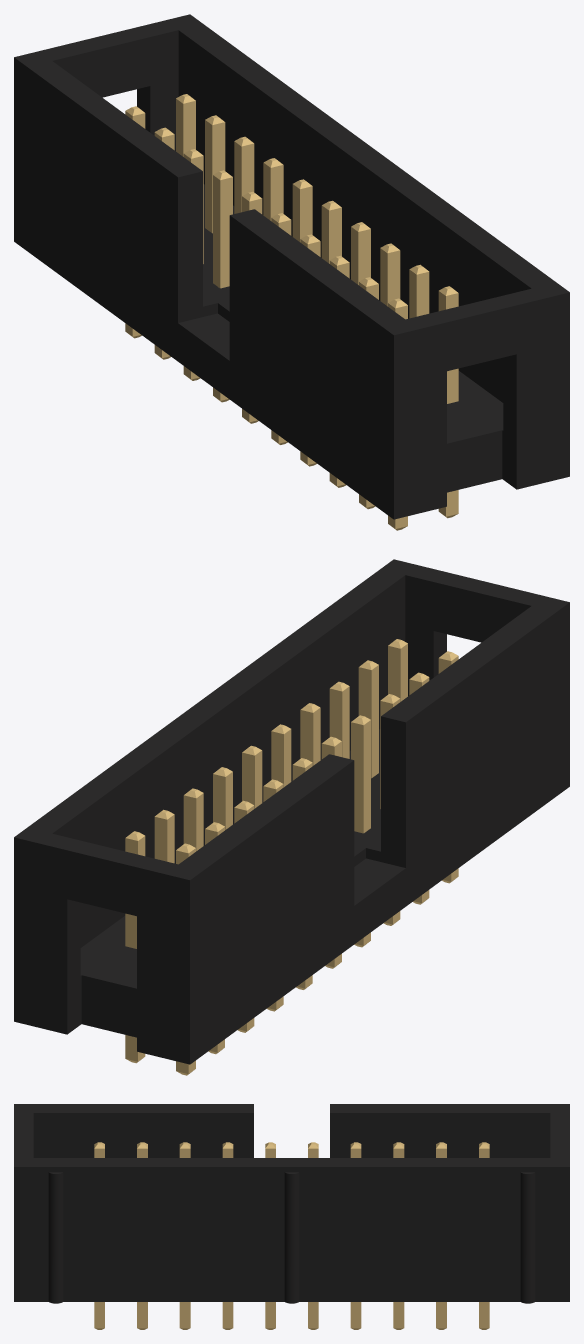
The model's file is kc-idc-header_2x10_p2.54mm_vertical.glb.
3 renders of one model, top to bottom at view 1: azimuth 30°, elevation 25°; view 2: azimuth 150°, elevation 25°; view 3: azimuth 270°, elevation 25°, orthographic. The views are drawn at different scales.
Parts seen in each view (by area): view 1: 0_0_0_0, 0.75_0.5_0.25_0.9; view 2: 0_0_0_0, 0.75_0.5_0.25_0.9; view 3: 0_0_0_0, 0.75_0.5_0.25_0.9.
Boxes of the visible parts, x1,y1,x2,y2 form: 0_0_0_0: (14,14,569,519); 0.75_0.5_0.25_0.9: (125,94,458,530); 0_0_0_0: (14,559,569,1064); 0.75_0.5_0.25_0.9: (125,639,458,1075); 0_0_0_0: (14,1104,569,1303); 0.75_0.5_0.25_0.9: (94,1142,489,1329).
Bounding box in the file's own units: 0.9102 × 1.21 × 3.31.
